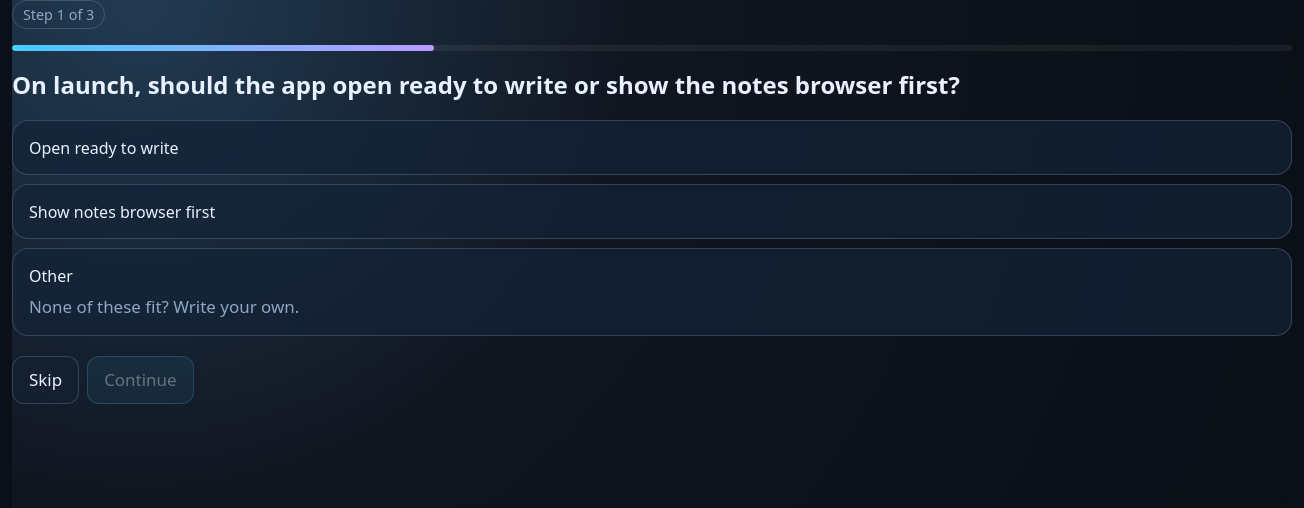
RefinementSection › skips already answered questions when continuing through the survey deck
Expected: the heading "On launch, should the app open ready to write or show the notes browser first?" is shown, [12, 68, 960, 101]
Click the button "Open ready to write" at [104, 148], box [12, 120, 1292, 175]
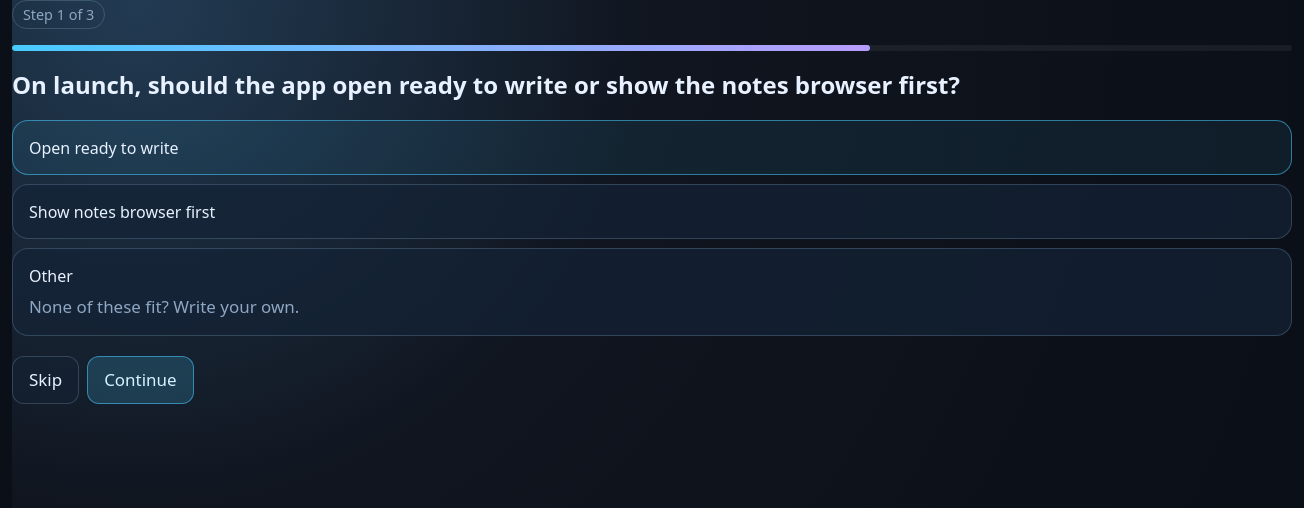
Click the button "Continue" at [140, 380], box [87, 356, 194, 404]
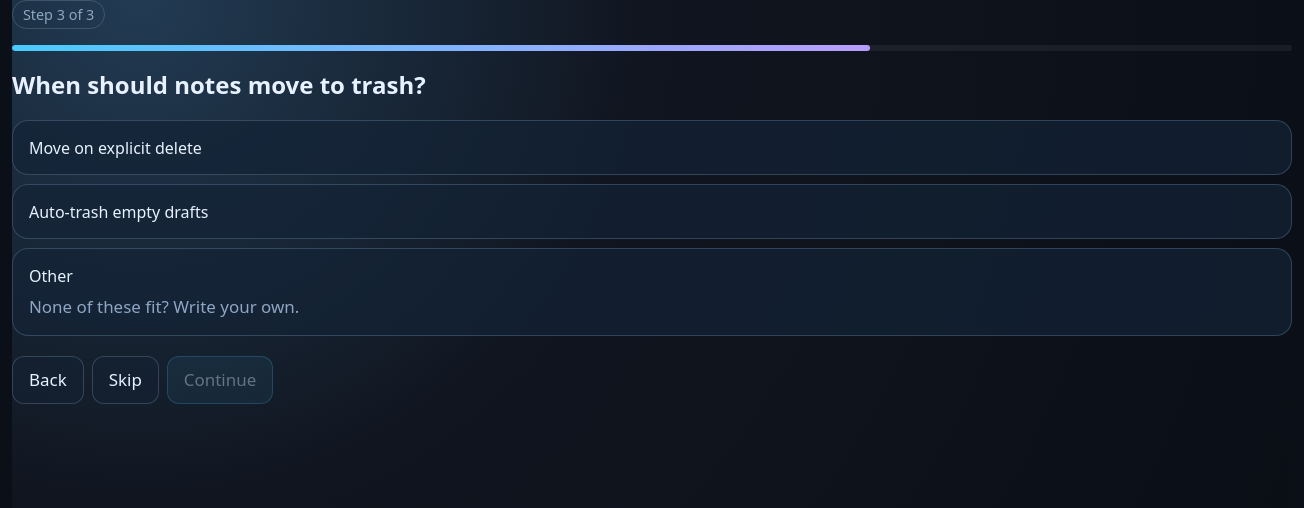
Now the heading "When should notes move to trash?" is shown, box [12, 68, 426, 101]
